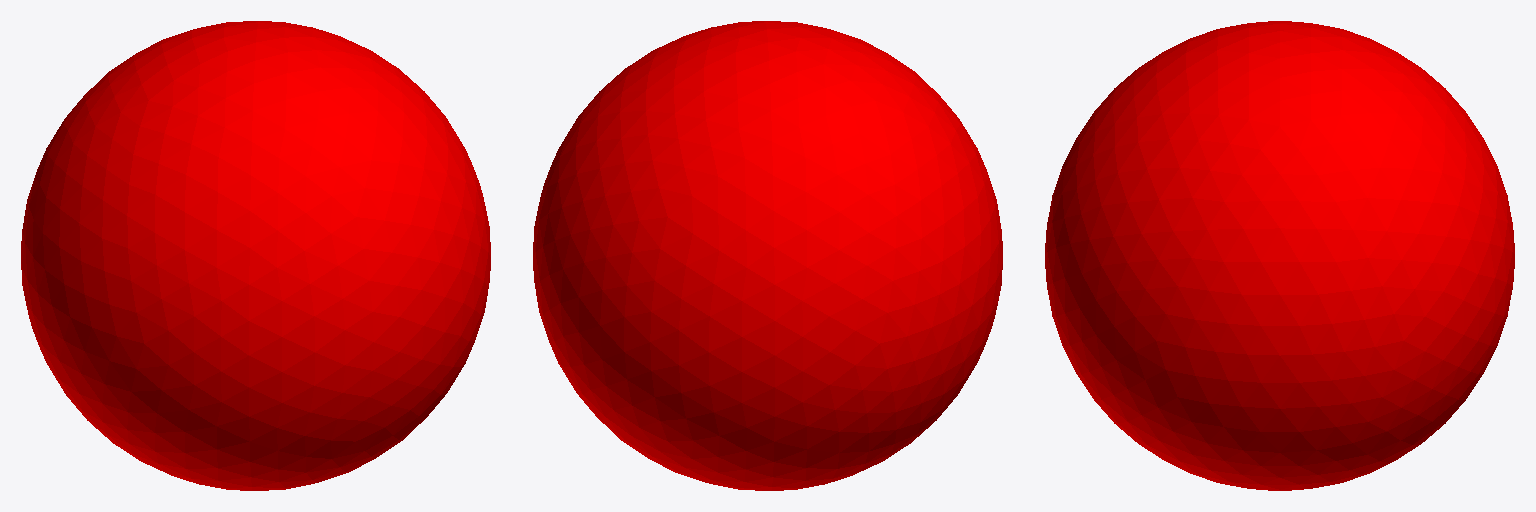
URDF robot description (ball_static):
<?xml version="1.0"?>
<robot name="ball_static"
       xmlns:xi="http://www.w3.org/2001/XInclude"
       >
  <gazebo>
    <static>true</static>
  </gazebo>
  <link name="nil_link">
    <visual>
      <origin xyz="0 0 0" rpy="0 -0 0"/>
      <geometry>
        <mesh filename="model://ball/meshes/nil_link_mesh.dae" scale="1 1 1" />
      </geometry>
    </visual>
    <collision>
      <origin xyz="0 0 0" rpy="0 -0 0"/>
      <geometry>
        <mesh filename="model://ball/meshes/nil_link_mesh.dae" scale="1 1 1" />
      </geometry>
    </collision>
    <inertial>
      <mass value="0.001" />
      <origin xyz="0 0 0" rpy="0 -0 0"/>
      <inertia ixx="1e-03" ixy="0" ixz="0" iyy="1e-03" iyz="0" izz="1e-03"/>
    </inertial>
  </link>
  <gazebo reference="nil_link">
    <mu1>0.9</mu1>
    <mu2>0.9</mu2>
  </gazebo>
</robot>

--- What the picture shows (computed from the rendered views, not written in the file) ---
The picture shows the robot from 3 angles, left to right: view 1: azimuth 30°, elevation 25°; view 2: azimuth 150°, elevation 25°; view 3: azimuth 270°, elevation 25°; orthographic projection.
Robot: ball_static — 1 links, 0 joints (none); root link nil_link; default pose: all joints at 0.
Links seen in each view (by area): view 1: nil_link; view 2: nil_link; view 3: nil_link.
Link boxes in pixels (x1=…): nil_link: x1=21, y1=21, x2=490, y2=490; nil_link: x1=533, y1=21, x2=1002, y2=490; nil_link: x1=1045, y1=21, x2=1514, y2=490.
Bounding box of the posed robot: 0.2 × 0.2 × 0.2 m (x, y, z).
1 mesh visuals loaded from 1 distinct referenced files (1 Collada DAE).